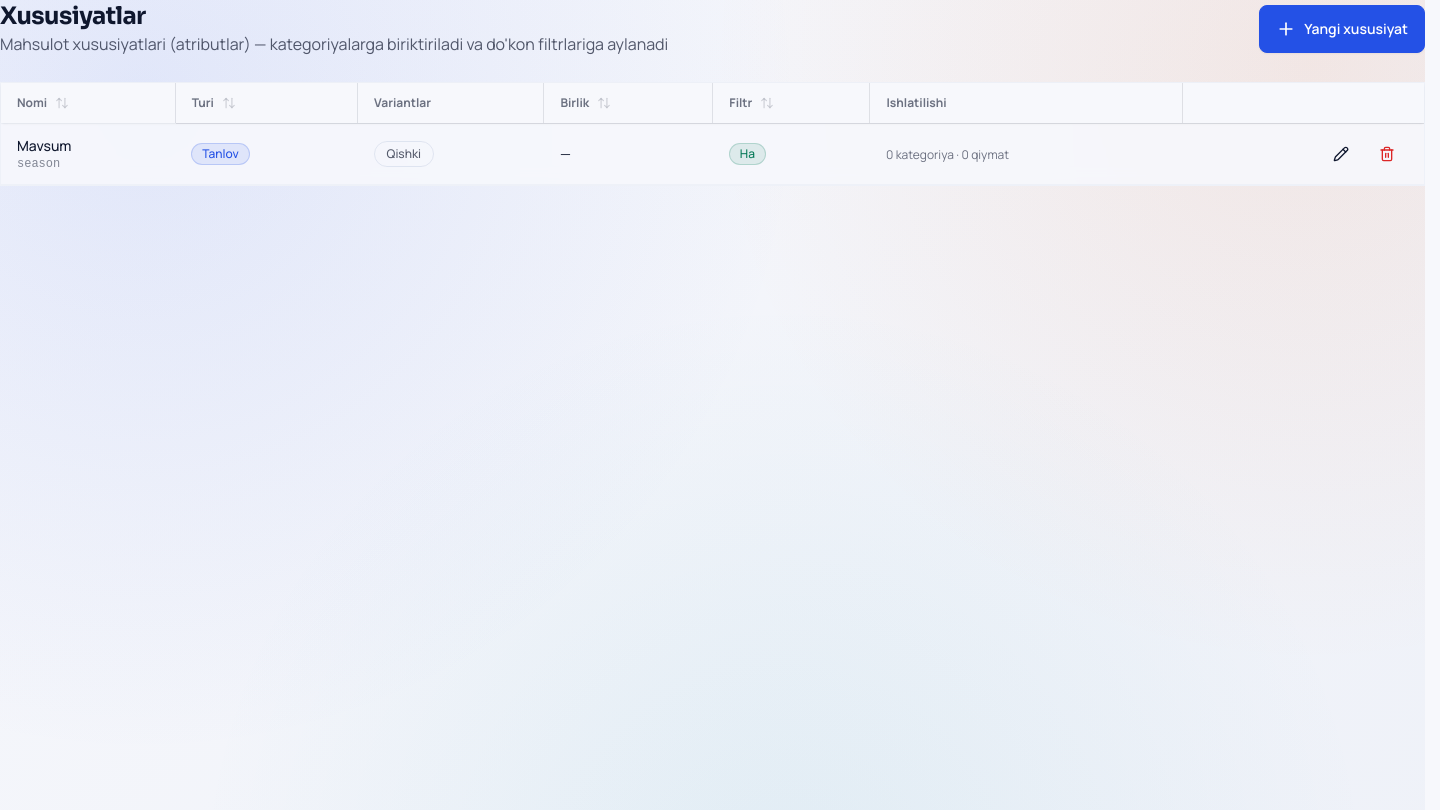
AttributesPage › tahrirlashda forma atribut nomi bilan to'ladi
The width and height of the screenshot is (1440, 810).
Expected: the text "Mavsum" is shown, top-left (17, 136), bottom-right (72, 155)
Click the button named "Tahrirlash".
click(1341, 154)  # box top-left (1320, 138), bottom-right (1362, 170)
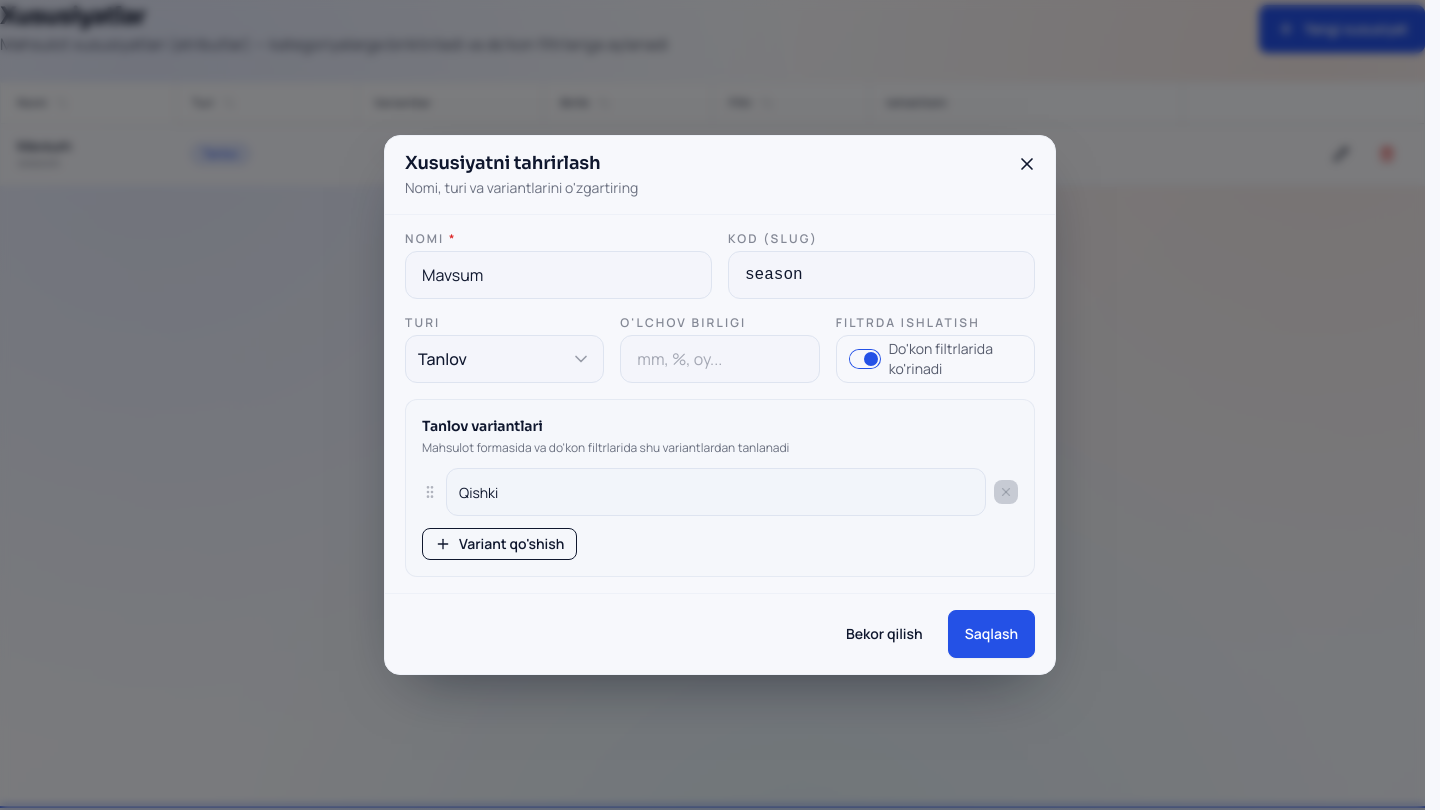
Result: the field labelled "Nomi *" holds "Mavsum" at top-left (405, 251), bottom-right (712, 299)
